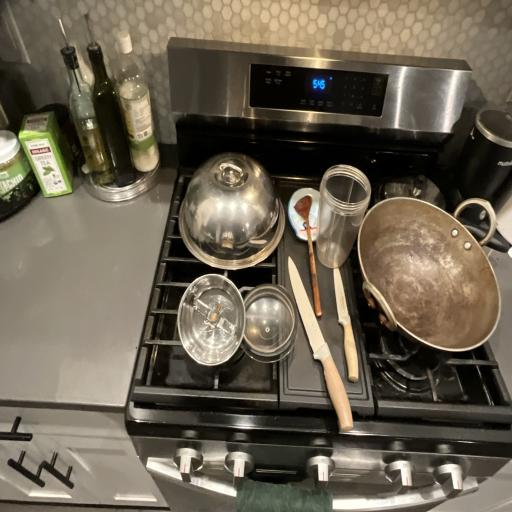Pan: (348, 188, 510, 358)
Stove: (106, 45, 512, 512)
knife: (280, 248, 364, 456), (314, 250, 375, 391)
